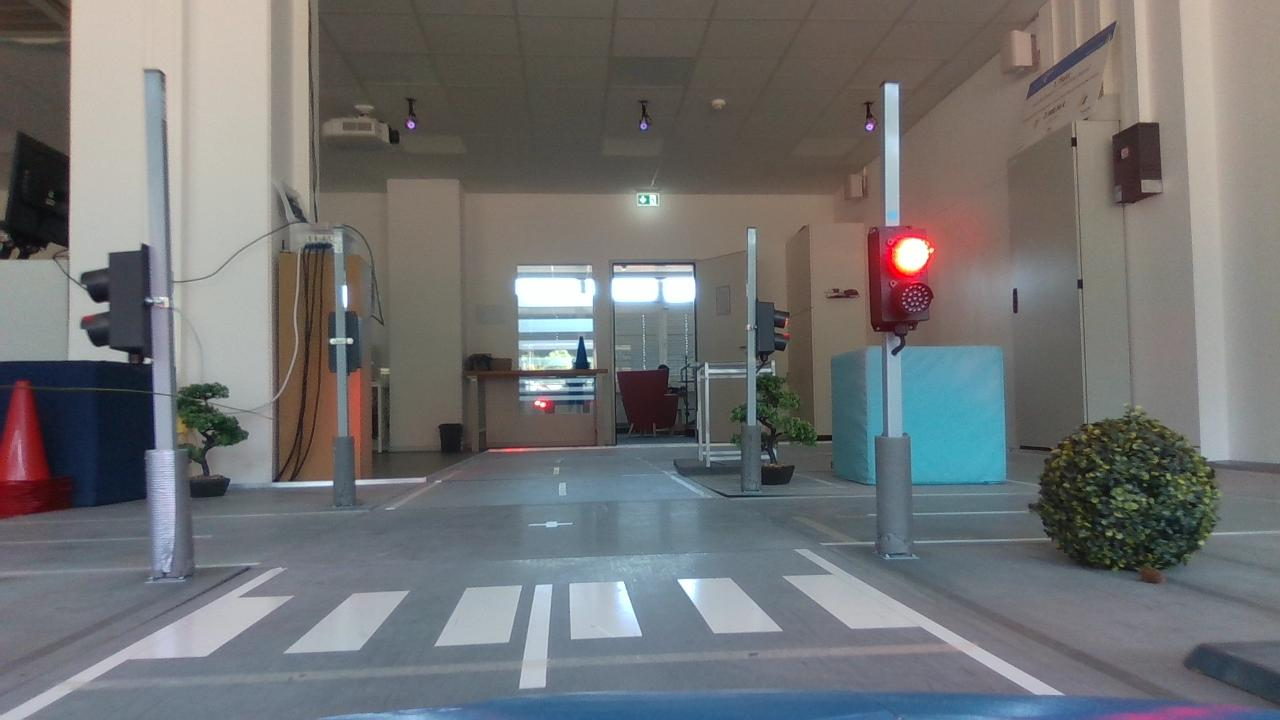traffic_light_red: (860, 213, 943, 337)
